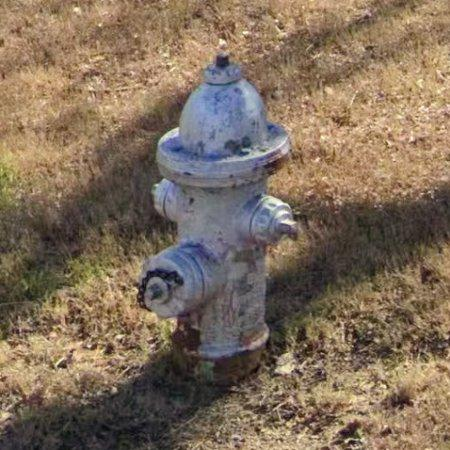a fire hydrant: (138, 53, 298, 384)
